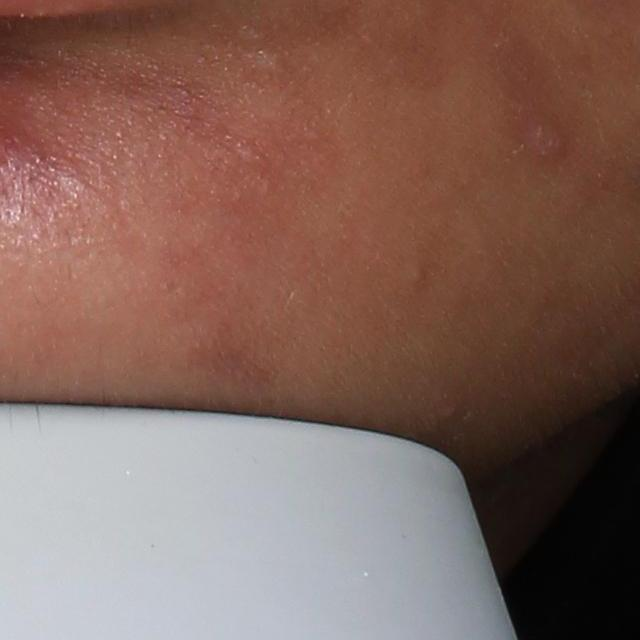papule: (520, 115, 573, 159)
